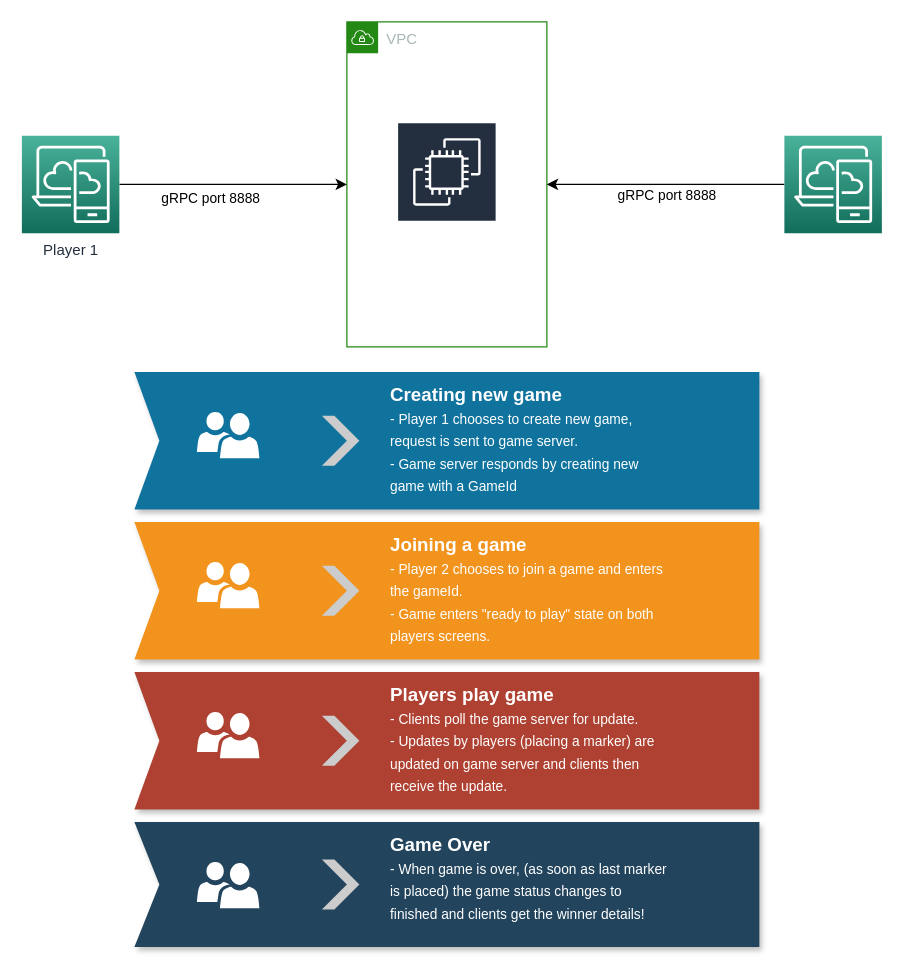
Image size: 904x978. Some labels were removed from this diagram. Here are the shapes that lost their labels. From the top down, the centre of each, then its label:
At [446,184]: "Game Server".
At [832,183]: "Player 2".
